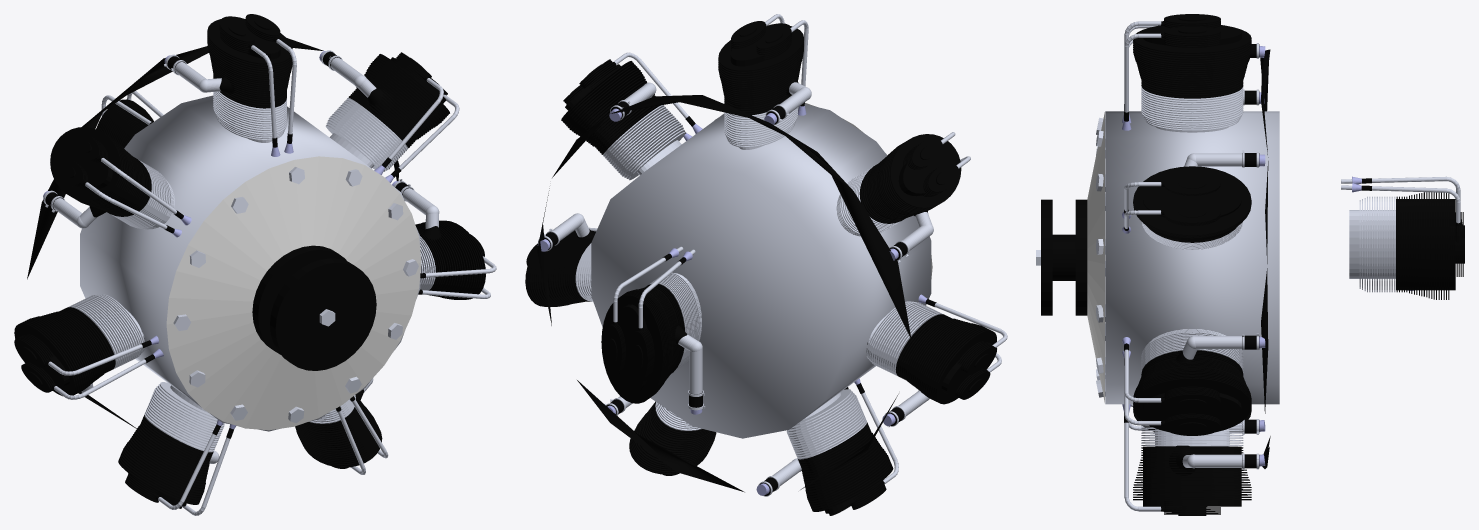
The model's file is radial7.glb.
3 renders of one model, left to right at view 1: azimuth 30°, elevation 25°; view 2: azimuth 150°, elevation 25°; view 3: azimuth 270°, elevation 25°, orthographic.
Parts seen in each view (by area): view 1: CoverFront_1, Cylinder.078_4, Cylinder1_111, Cylinder7_112, Cylinder3_116, Cylinder2_117, Cylinder4_115, RotorFixtureTop_121, Cylinder6_113, Cylinder5_114, RotorFixtureBase_119, ExhaustPipe_0; view 2: Cylinder.078_4, Cylinder3_116, Cylinder4_115, Cylinder1_111, Cylinder7_112, Cylinder2_117, ExhaustPipe_0, Cylinder6_113, Cylinder5_114, Cylinder.042_51, Cylinder.002_12, Cylinder.049_58 (+2 smaller); view 3: Cylinder.078_4, Cylinder1_111, Cylinder6_113, Cylinder5_114, Cylinder7_112, Cylinder.002_12, CoverFront_1, Cylinder.077_110, RotorFixtureBase_119, ExhaustPipe_0, RotorFixtureTop_121, RotorFixtureCenter_120 (+1 smaller).
Boxes of the visible parts, x1=… form: CoverFront_1: x1=166, y1=156, x2=421, y2=430; Cylinder.078_4: x1=80, y1=95, x2=420, y2=431; Cylinder1_111: x1=164, y1=14, x2=296, y2=156; Cylinder7_112: x1=319, y1=50, x2=459, y2=182; Cylinder3_116: x1=14, y1=294, x2=163, y2=399; Cylinder2_117: x1=43, y1=127, x2=191, y2=237; Cylinder4_115: x1=118, y1=382, x2=236, y2=515; RotorFixtureTop_121: x1=270, y1=258, x2=376, y2=370; Cylinder6_113: x1=392, y1=179, x2=496, y2=299; Cylinder5_114: x1=295, y1=378, x2=388, y2=474; RotorFixtureBase_119: x1=252, y1=245, x2=347, y2=354; ExhaustPipe_0: x1=27, y1=38, x2=399, y2=428; Cylinder.078_4: x1=591, y1=104, x2=931, y2=438; Cylinder3_116: x1=866, y1=294, x2=1007, y2=426; Cylinder4_115: x1=756, y1=378, x2=898, y2=515; Cylinder1_111: x1=718, y1=14, x2=811, y2=149; Cylinder7_112: x1=561, y1=52, x2=702, y2=180; Cylinder2_117: x1=836, y1=132, x2=970, y2=262; ExhaustPipe_0: x1=537, y1=95, x2=911, y2=492; Cylinder6_113: x1=525, y1=213, x2=597, y2=306; Cylinder5_114: x1=604, y1=396, x2=716, y2=475; Cylinder.042_51: x1=601, y1=294, x2=663, y2=403; Cylinder.002_12: x1=615, y1=304, x2=647, y2=396; Cylinder.049_58: x1=628, y1=331, x2=648, y2=383; Cylinder.078_4: x1=1105, y1=111, x2=1279, y2=404; Cylinder1_111: x1=1122, y1=14, x2=1265, y2=132; Cylinder6_113: x1=1122, y1=329, x2=1265, y2=435; Cylinder5_114: x1=1122, y1=404, x2=1265, y2=515; Cylinder7_112: x1=1122, y1=150, x2=1265, y2=249; Cylinder.002_12: x1=1396, y1=199, x2=1455, y2=290; CoverFront_1: x1=1087, y1=112, x2=1104, y2=402; Cylinder.077_110: x1=1349, y1=210, x2=1395, y2=278; RotorFixtureBase_119: x1=1075, y1=199, x2=1087, y2=315; ExhaustPipe_0: x1=1260, y1=49, x2=1270, y2=468; RotorFixtureTop_121: x1=1041, y1=199, x2=1052, y2=315; RotorFixtureCenter_120: x1=1052, y1=234, x2=1075, y2=280.
Size of the model in its own units: 1.76 by 1.72 by 1.48.
